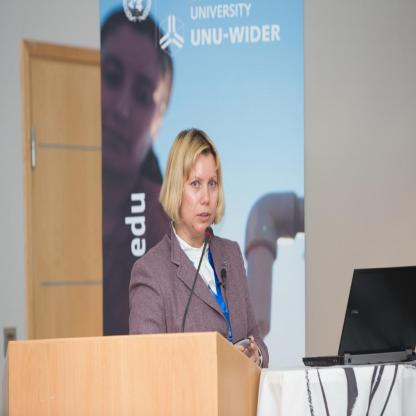board: (301, 264, 416, 368)
